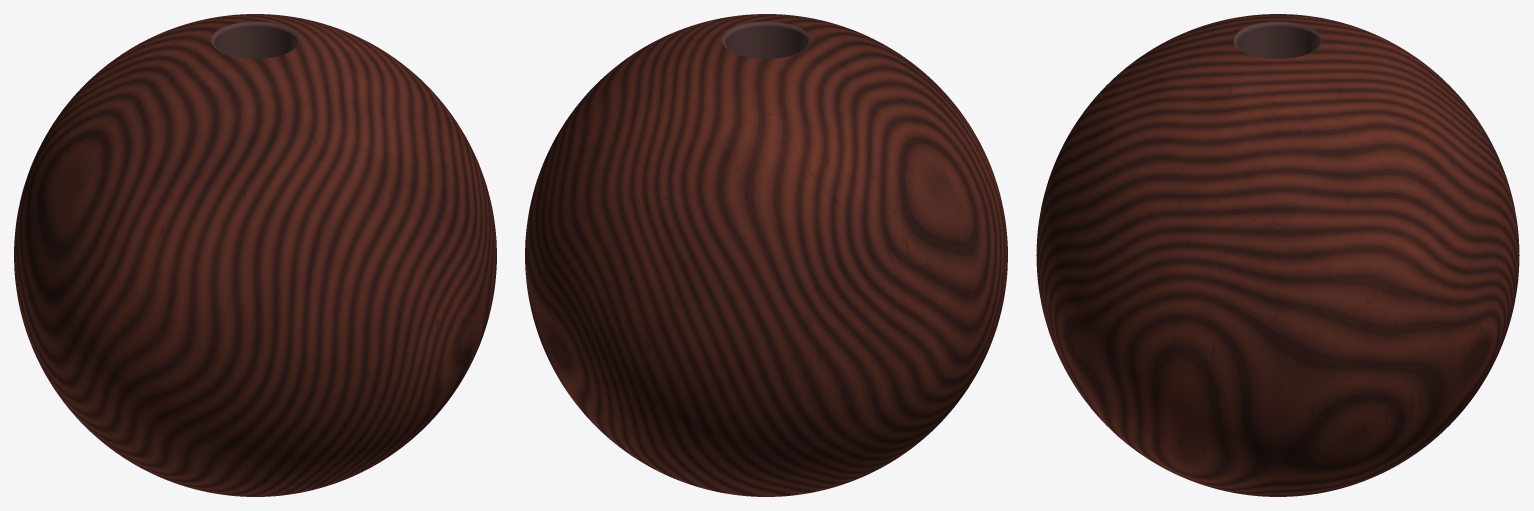
File: wood-red-rosewood-6mm.glb
3 views of the same model, side by side, from view 1: azimuth 30°, elevation 25°; view 2: azimuth 150°, elevation 25°; view 3: azimuth 270°, elevation 25° (orthographic).
Visible parts, largest first — view 1: red-rosewood; view 2: red-rosewood; view 3: red-rosewood.
Boxes of the visible parts, left/top/right/bottom form: red-rosewood: left=14, top=14, right=496, bottom=496; red-rosewood: left=525, top=14, right=1007, bottom=496; red-rosewood: left=1036, top=14, right=1519, bottom=496.
Size of the model in its own units: 0.006 by 0.0059 by 0.006.
2 materials, 1 textured.
